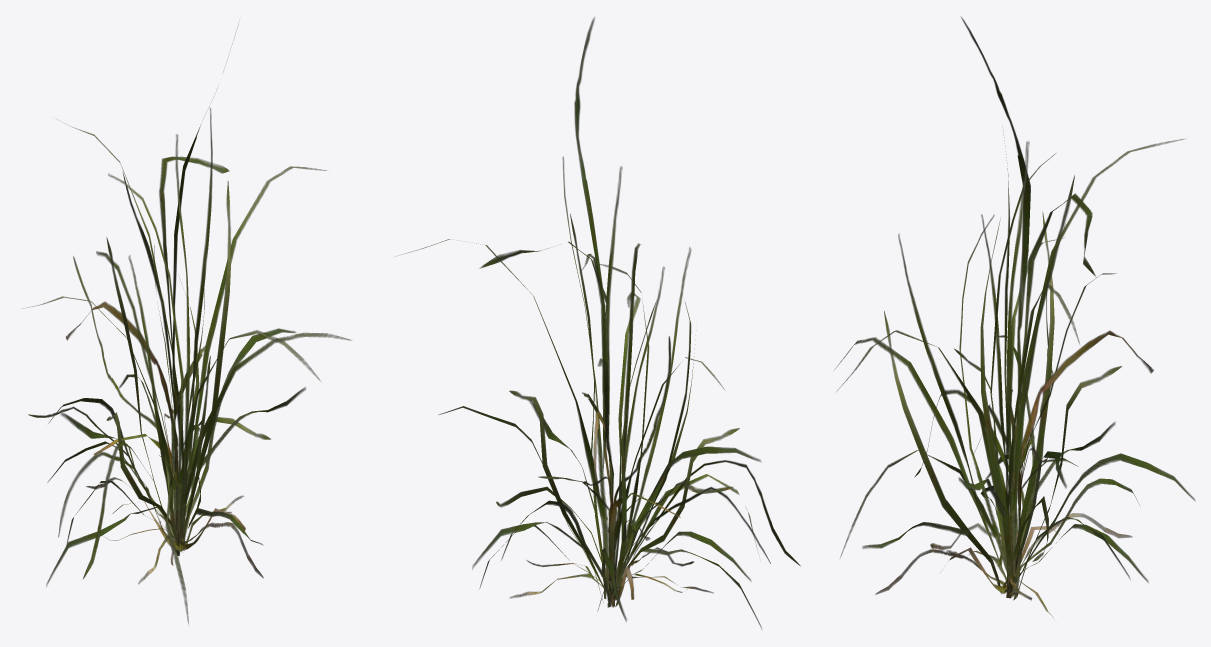
File: grass_tall_a.glb
The picture shows the model from 3 angles, left to right: view 1: azimuth 30°, elevation 25°; view 2: azimuth 150°, elevation 25°; view 3: azimuth 270°, elevation 25°; orthographic projection. The views are drawn at different scales.
Parts seen in each view (by area): view 1: grass_medium_01_small_a_LOD0.001; view 2: grass_medium_01_small_a_LOD0.001; view 3: grass_medium_01_small_a_LOD0.001.
Boxes of the visible parts, <box> form: grass_medium_01_small_a_LOD0.001: <box>23,25,351,623</box>; grass_medium_01_small_a_LOD0.001: <box>398,17,800,628</box>; grass_medium_01_small_a_LOD0.001: <box>835,17,1195,618</box>.
Size of the model in its own units: 2.78 by 4.49 by 2.44.
Materials: 1 (1 with a texture image).
